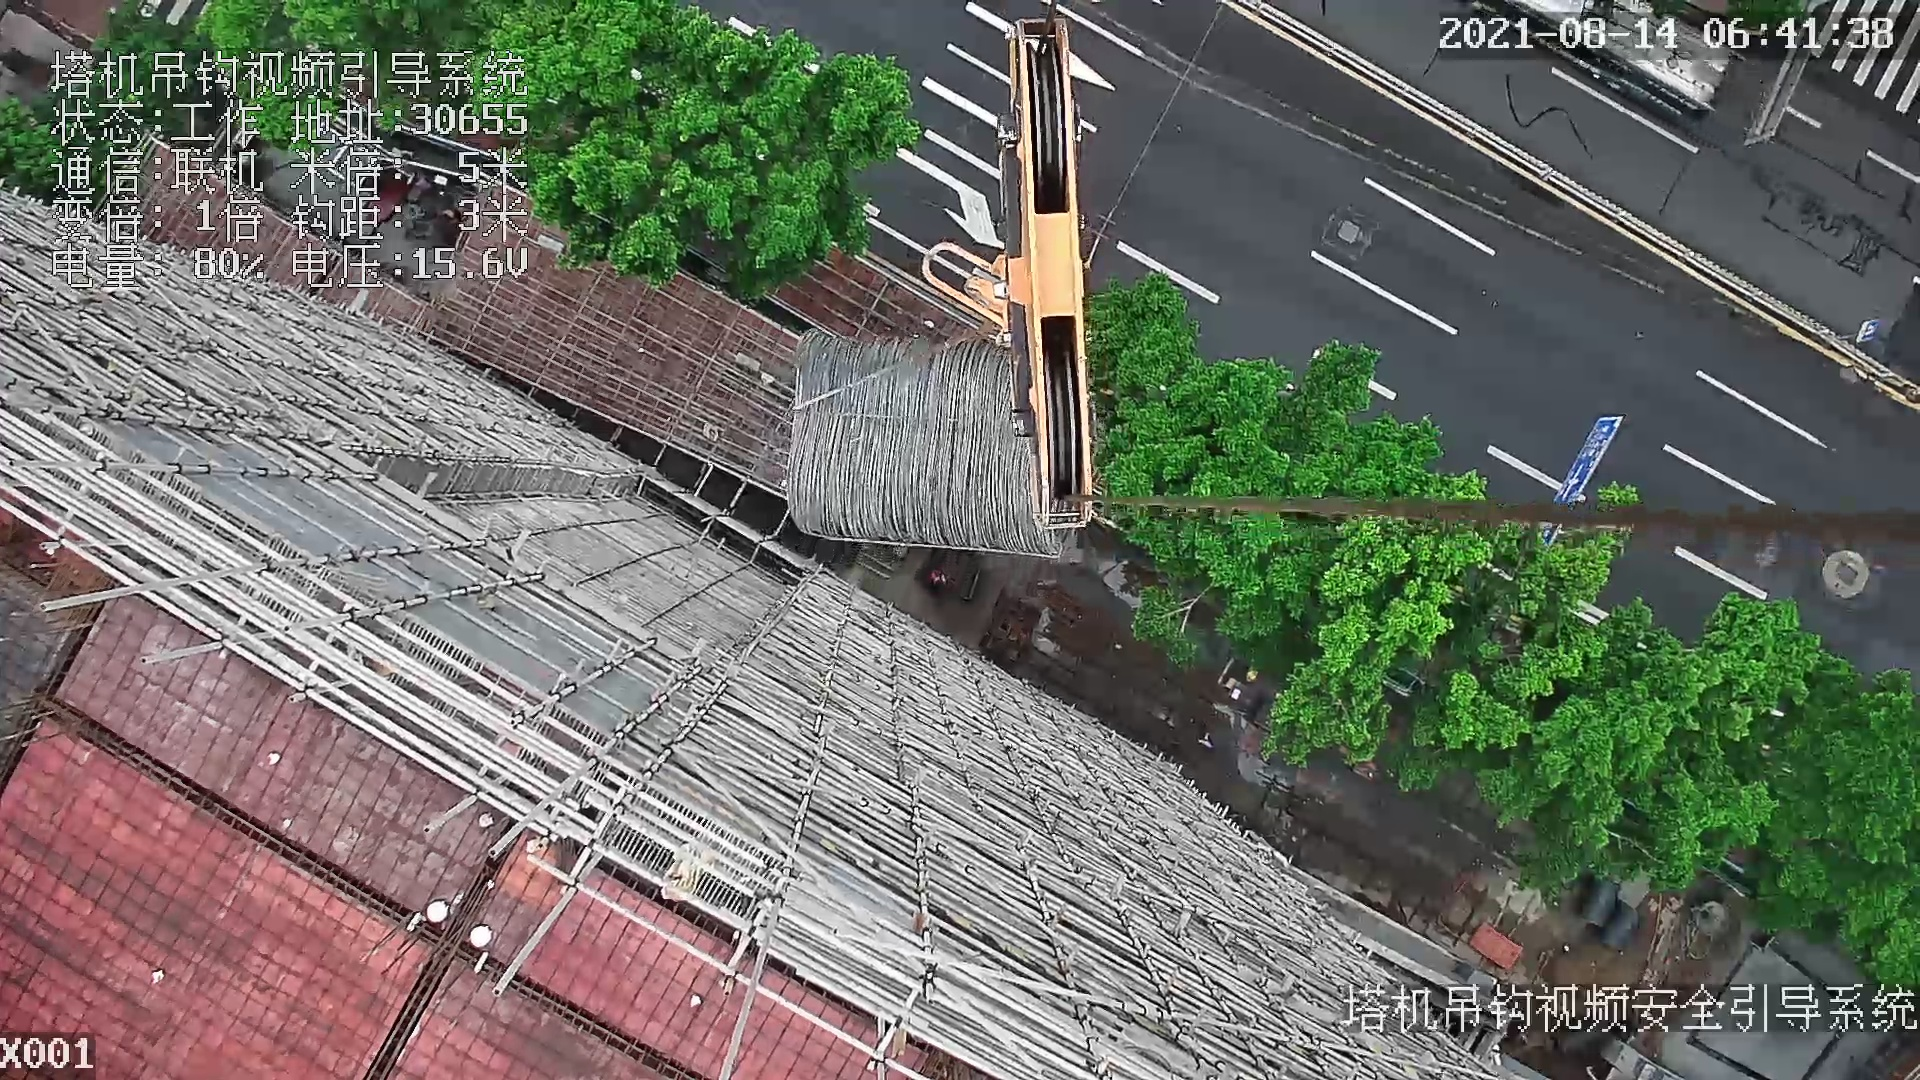hook: (920, 9, 1100, 535)
